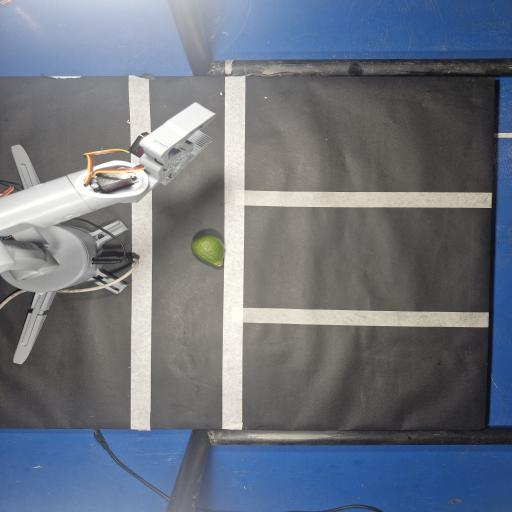higo: (191, 235, 224, 266)
